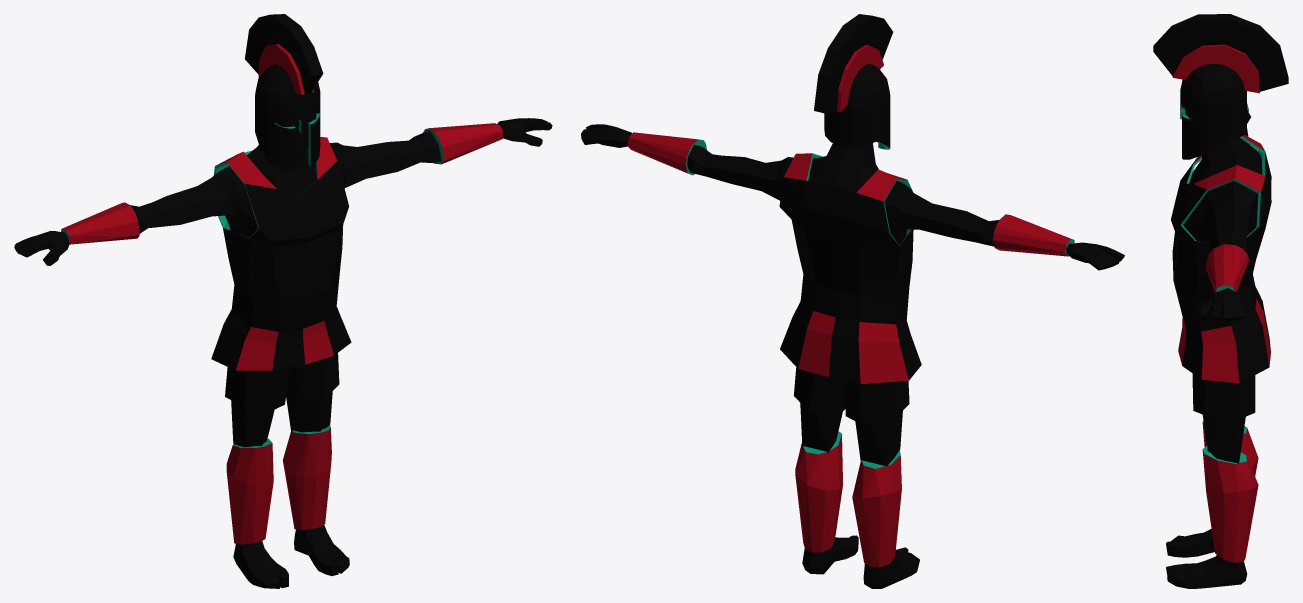
The model's file is SpartanArmour1.fbx.
3 renders of one model, left to right at view 1: azimuth 30°, elevation 25°; view 2: azimuth 150°, elevation 25°; view 3: azimuth 270°, elevation 25°, orthographic.
Visible parts, largest first — view 1: Md_Char_Low_Poly_Man.002, SpaChest, SpaHelmet, SpaSkirt, SpaLeftShin, SpaRightShin, SpaRightGaunt, SpaLeftGaunt; view 2: Md_Char_Low_Poly_Man.002, SpaChest, SpaHelmet, SpaSkirt, SpaRightShin, SpaLeftShin, SpaRightGaunt, SpaLeftGaunt; view 3: Md_Char_Low_Poly_Man.002, SpaHelmet, SpaChest, SpaSkirt, SpaLeftShin, SpaLeftGaunt, SpaRightShin.
Part boxes in pixels (x1,y1,x2,y2): Md_Char_Low_Poly_Man.002: (14, 113, 552, 588); SpaChest: (213, 137, 348, 331); SpaHelmet: (245, 14, 323, 170); SpaSkirt: (211, 306, 351, 370); SpaLeftShin: (282, 426, 331, 529); SpaRightShin: (226, 438, 273, 544); SpaRightGaunt: (61, 202, 139, 244); SpaLeftGaunt: (423, 123, 502, 164); Md_Char_Low_Poly_Man.002: (581, 124, 1124, 588); SpaChest: (779, 153, 913, 324); SpaHelmet: (814, 14, 893, 149); SpaSkirt: (780, 301, 921, 383); SpaRightShin: (852, 450, 901, 567); SpaLeftShin: (795, 431, 842, 552); SpaRightGaunt: (993, 214, 1074, 256); SpaLeftGaunt: (627, 132, 706, 175); Md_Char_Low_Poly_Man.002: (1166, 109, 1262, 588); SpaHelmet: (1153, 14, 1288, 159); SpaChest: (1171, 135, 1271, 331); SpaSkirt: (1178, 286, 1270, 383); SpaLeftShin: (1202, 446, 1258, 562); SpaLeftGaunt: (1205, 244, 1248, 292); SpaRightShin: (1202, 420, 1258, 476).
Bounding box in the file's own units: 201 × 196 × 43.97.
